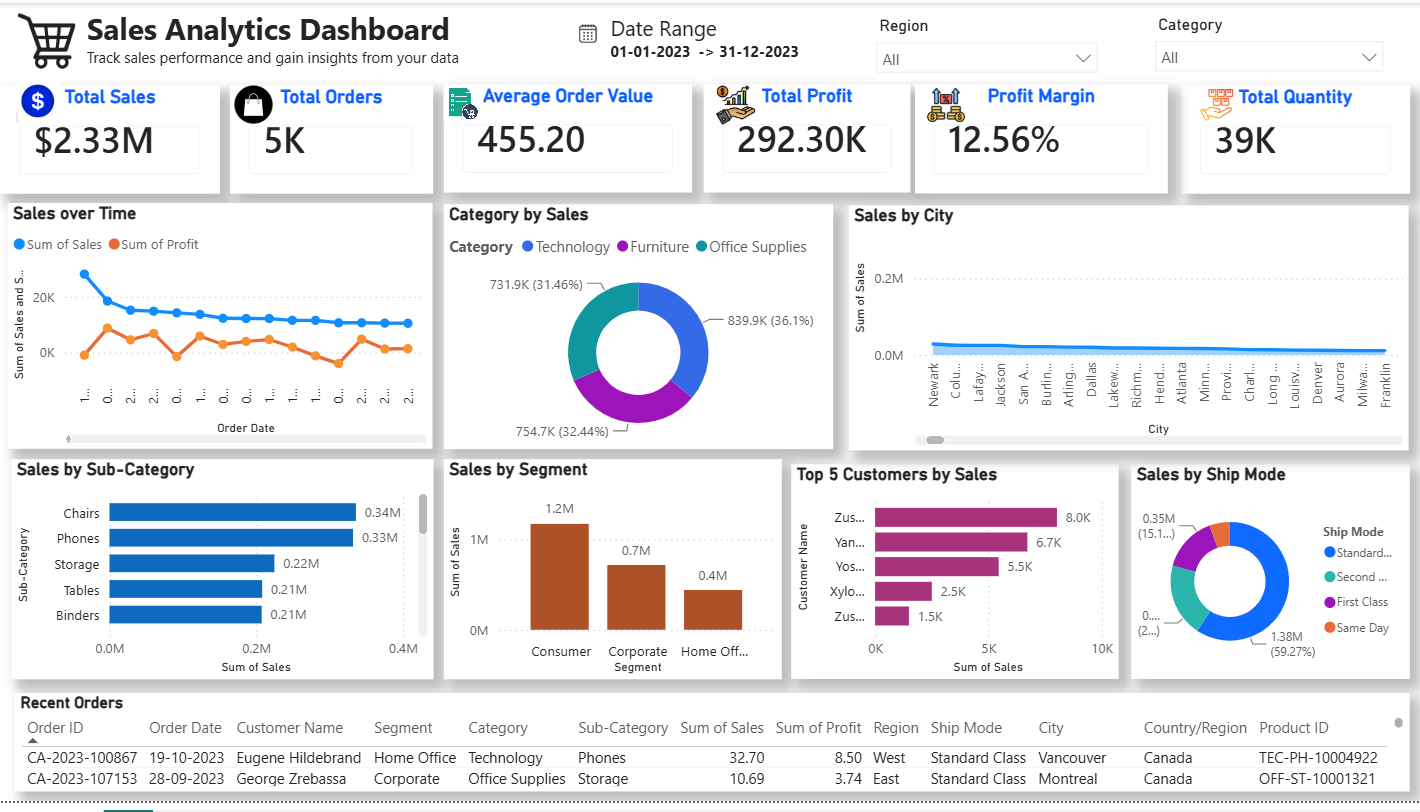

The dashboard page shown, as its layout file describes it:
{"tool":"powerbi","page":{"name":"Dashboard","canvas":[1280,720],"ordinal":0},"visuals":[{"type":"textbox","box":[73.2,0,413.4,95.1],"z":0},{"type":"textbox","box":[530.5,4.9,207.3,63.4],"z":1000},{"type":"image","box":[0,0,84.1,68.3],"z":2000},{"type":"image","box":[511,14.6,39,25.6],"z":3000},{"type":"slicer","fields":{"Values":["Orders.Region"]},"box":[780.5,7.3,219.5,69.5],"z":4000},{"type":"slicer","fields":{"Values":["Orders.Category"]},"box":[1031.7,6.1,225.6,59.8],"z":5000},{"type":"cardVisual","title":"Total Sales","fields":{"Data":["Orders.Total Sales"]},"box":[0,74.4,198.8,97.6],"z":6000},{"type":"cardVisual","title":"Total Orders","fields":{"Data":["Orders.Total Orders"]},"box":[207.3,74.4,182.9,97.6],"z":7000},{"type":"cardVisual","title":"Average Order Value","fields":{"Data":["Orders.Average Order Value"]},"box":[400,73.2,224.4,97.6],"z":8000},{"type":"cardVisual","title":"Total Profit","fields":{"Data":["Orders.Total Profit"]},"box":[634.1,73.2,186.6,97.6],"z":9000},{"type":"cardVisual","title":"Total Quantity","fields":{"Data":["Orders.Total Quantity"]},"box":[1064.6,74.4,206.1,97.6],"z":10000},{"type":"cardVisual","title":"Profit Margin","fields":{"Data":["Orders.Profit Margin"]},"box":[825.6,73.2,228,98.8],"z":11000},{"type":"lineChart","title":"Sales over Time","fields":{"Y":["Sum(Orders.Sales)","Sum(Orders.Profit)"],"Category":["Orders.Order Date"]},"box":[7.3,180.5,382.9,222],"z":12000},{"type":"donutChart","title":"Category by Sales","fields":{"Category":["Orders.Category"],"Y":["Sum(Orders.Sales)"]},"box":[400,181.7,351.2,220.7],"z":13000},{"type":"clusteredBarChart","title":" Sales by Sub-Category","fields":{"Category":["Orders.Sub-Category"],"Y":["Sum(Orders.Sales)"]},"box":[9.8,411,380.5,198.8],"z":14000},{"type":"columnChart","title":"Sales by Segment","fields":{"Category":["Orders.Segment"],"Y":["Sum(Orders.Sales)"]},"box":[400,411,304.9,198.8],"z":15000},{"type":"clusteredBarChart","title":"Top 5 Customers by Sales","fields":{"Category":["Orders.Customer Name"],"Y":["Sum(Orders.Sales)"]},"box":[713.4,415.9,295.1,193.9],"z":16000},{"type":"donutChart","title":"Sales by Ship Mode","fields":{"Category":["Orders.Ship Mode"],"Y":["Sum(Orders.Sales)"]},"box":[1019.5,415.9,251.2,193.9],"z":17000},{"type":"tableEx","title":"Recent Orders","fields":{"Values":["Orders.Order ID","Orders.Order Date","Orders.Customer Name","Orders.Segment","Orders.Category","Orders.Sub-Category","Sum(Orders.Sales)","Sum(Orders.Profit)","Orders.Region","Orders.Ship Mode","Orders.City","Orders.Country/Region"]},"box":[13.4,622,1257.3,89],"z":18000},{"type":"map","title":"Sales by Region","fields":{"Series":["Orders.Region"],"Size":["Sum(Orders.Sales)"]},"box":[765.9,182.9,504.9,220.7],"z":19000},{"type":"image","box":[6.1,68.3,57.3,39],"z":20000},{"type":"image","box":[207.3,74.4,42.7,34.1],"z":21000},{"type":"image","box":[400,74.4,35.4,32.9],"z":22000},{"type":"image","box":[634.1,74.4,57.3,35.4],"z":23000},{"type":"image","box":[825.6,74.4,56.1,35.4],"z":24000},{"type":"image","box":[1064.6,76.8,63.4,30.5],"z":25000}]}

Visuals, with their boxes in screenshot pixels (x1, y1, x2, y2), scaled from the page's 1280x720 canvas onto the 1420x812 screenshot:
textbox: (left=81, top=0, right=540, bottom=107)
textbox: (left=589, top=6, right=818, bottom=77)
image: (left=0, top=0, right=93, bottom=77)
image: (left=567, top=16, right=610, bottom=45)
slicer - Orders.Region: (left=866, top=8, right=1109, bottom=87)
slicer - Orders.Category: (left=1145, top=7, right=1395, bottom=74)
"Total Sales" cardVisual: (left=0, top=84, right=221, bottom=194)
"Total Orders" cardVisual: (left=230, top=84, right=433, bottom=194)
"Average Order Value" cardVisual: (left=444, top=83, right=693, bottom=193)
"Total Profit" cardVisual: (left=703, top=83, right=910, bottom=193)
"Total Quantity" cardVisual: (left=1181, top=84, right=1410, bottom=194)
"Profit Margin" cardVisual: (left=916, top=83, right=1169, bottom=194)
"Sales over Time" lineChart: (left=8, top=204, right=433, bottom=454)
"Category by Sales" donutChart: (left=444, top=205, right=833, bottom=454)
" Sales by Sub-Category" clusteredBarChart: (left=11, top=464, right=433, bottom=688)
"Sales by Segment" columnChart: (left=444, top=464, right=782, bottom=688)
"Top 5 Customers by Sales" clusteredBarChart: (left=791, top=469, right=1119, bottom=688)
"Sales by Ship Mode" donutChart: (left=1131, top=469, right=1410, bottom=688)
"Recent Orders" tableEx: (left=15, top=701, right=1410, bottom=802)
"Sales by Region" map: (left=850, top=206, right=1410, bottom=455)
image: (left=7, top=77, right=70, bottom=121)
image: (left=230, top=84, right=277, bottom=122)
image: (left=444, top=84, right=483, bottom=121)
image: (left=703, top=84, right=767, bottom=124)
image: (left=916, top=84, right=978, bottom=124)
image: (left=1181, top=87, right=1251, bottom=121)
